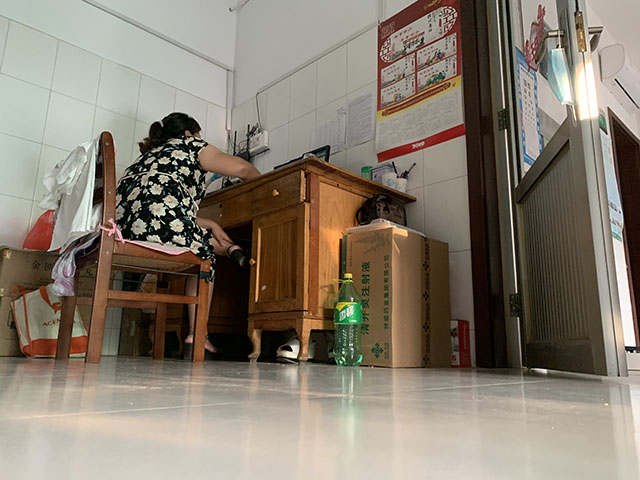stool: (38, 131, 212, 365)
table: (196, 155, 418, 367)
